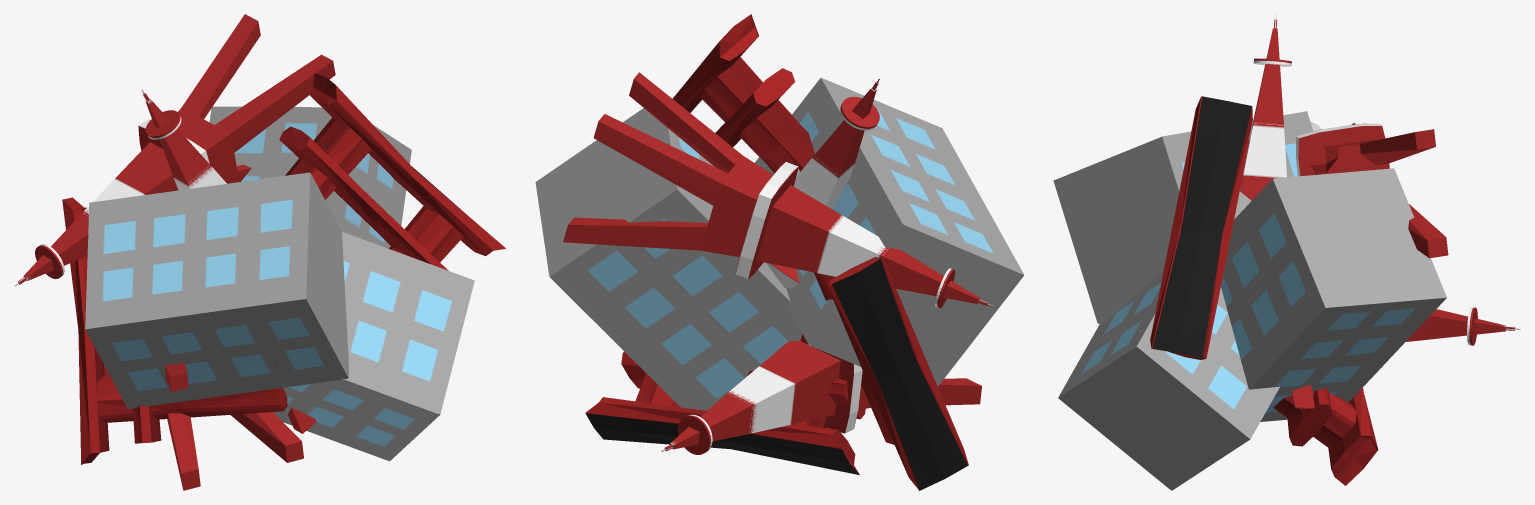
The model's file is bossBullet.obj.
The picture shows the model from 3 angles, left to right: view 1: azimuth 30°, elevation 25°; view 2: azimuth 150°, elevation 25°; view 3: azimuth 270°, elevation 25°; orthographic projection. The views are drawn at different scales.
Visible parts, largest first — view 1: Cube.002; view 2: Cube.002; view 3: Cube.002.
Boxes of the visible parts, x1,y1,x2,y2 form: Cube.002: [14, 14, 505, 490]; Cube.002: [535, 14, 1023, 490]; Cube.002: [1053, 14, 1520, 490].
Size of the model in its own units: 1.54 by 1.32 by 1.47.
